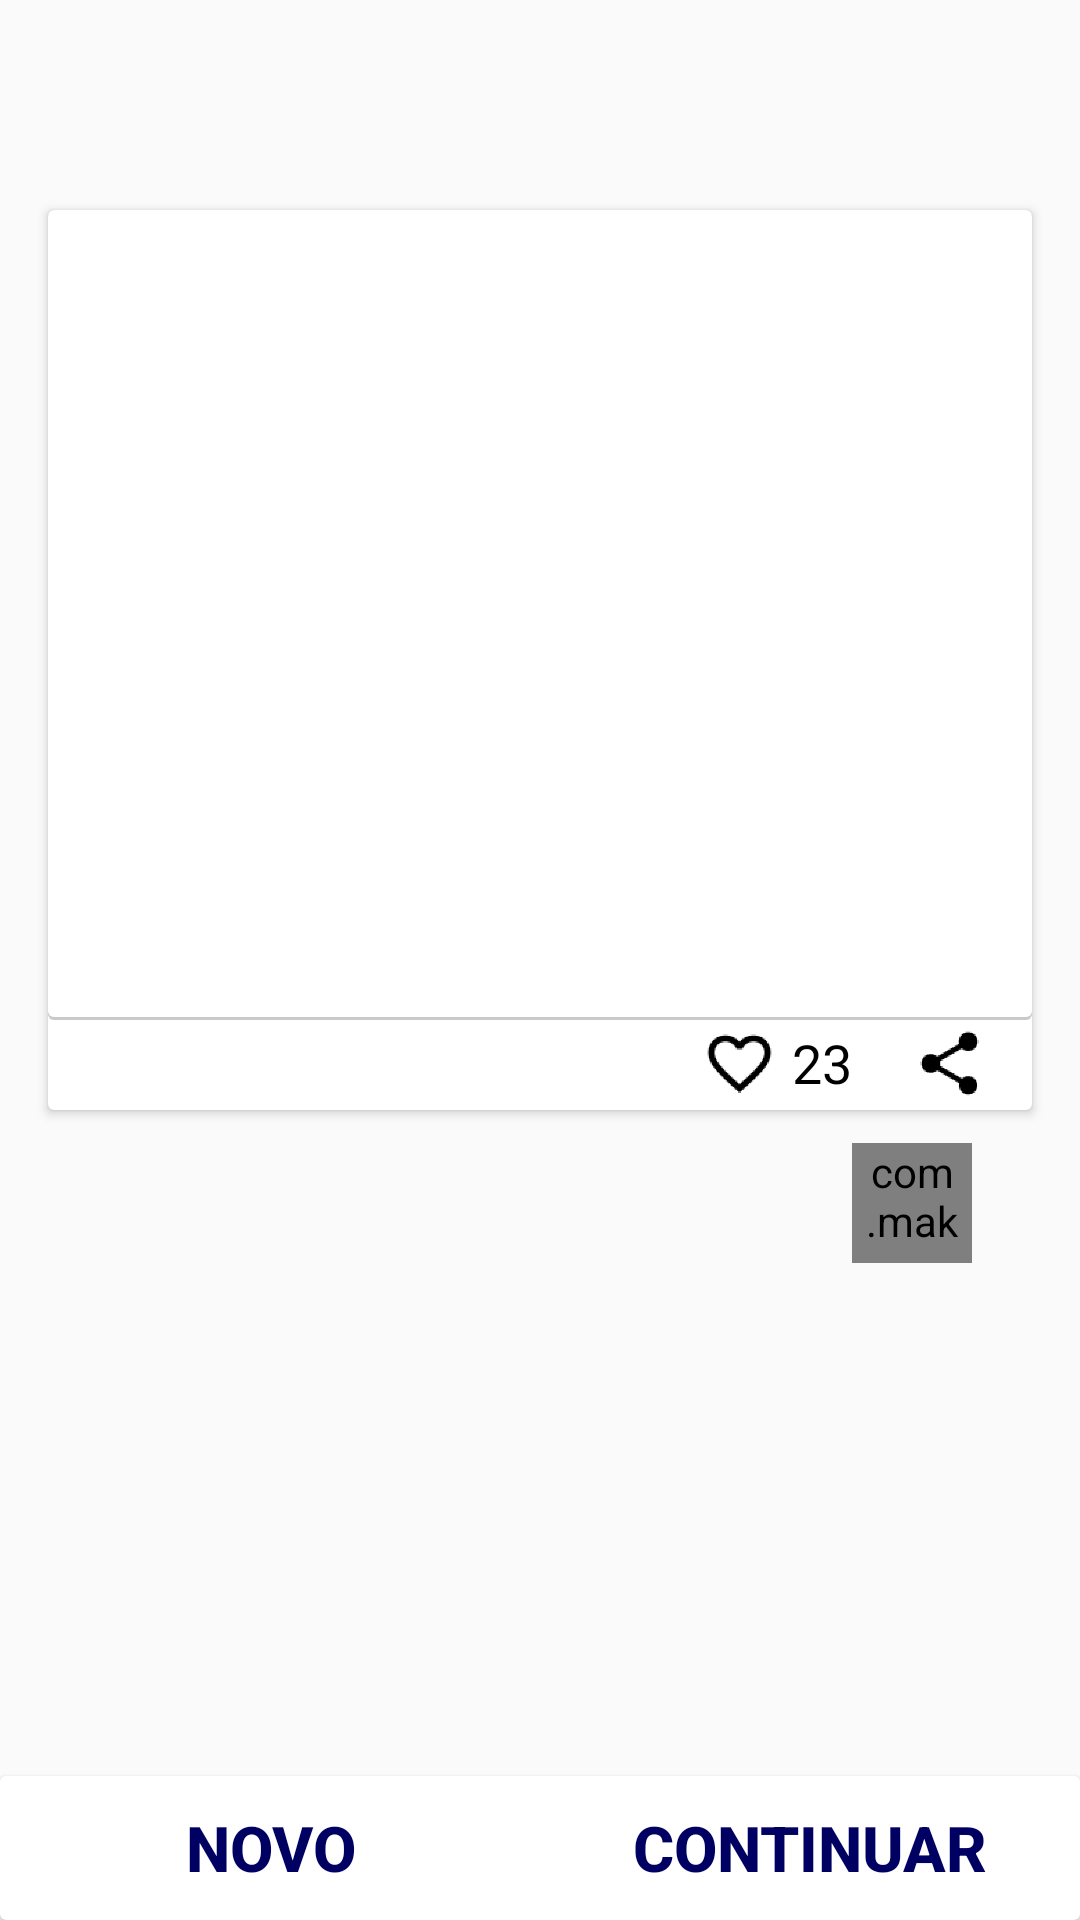

Icons on this 1080px×1920px Android screen, each with the point to tap as (x,y):
favorite border: (739,1063)
share: (949,1063)
